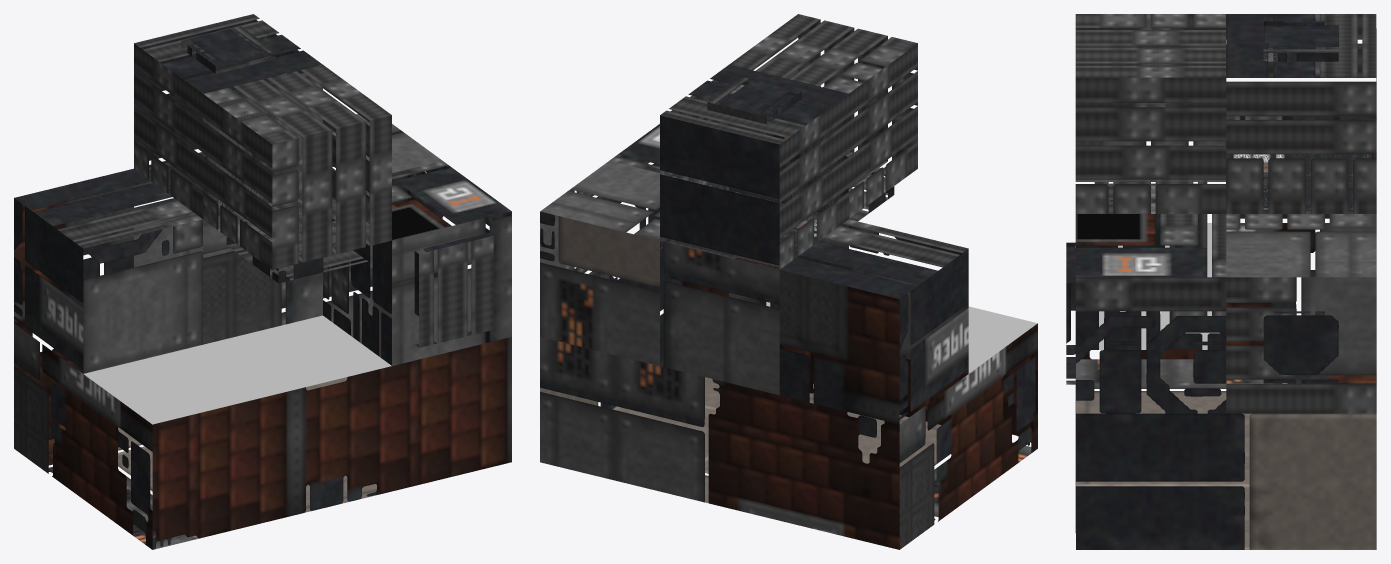
Rendered from foundry_mirrored.obj.
3 views of the same model, side by side, from view 1: azimuth 30°, elevation 25°; view 2: azimuth 150°, elevation 25°; view 3: azimuth 270°, elevation 25° (orthographic). The views are drawn at different scales.
Visible parts, largest first — view 1: plane_selection; view 2: plane_selection; view 3: plane_selection.
Boxes of the visible parts, x1,y1,x2,y2 form: plane_selection: (14, 14, 511, 549); plane_selection: (540, 14, 1037, 549); plane_selection: (1066, 14, 1376, 549).
Size of the model in its own units: 3.06 by 3.06 by 2.06.
